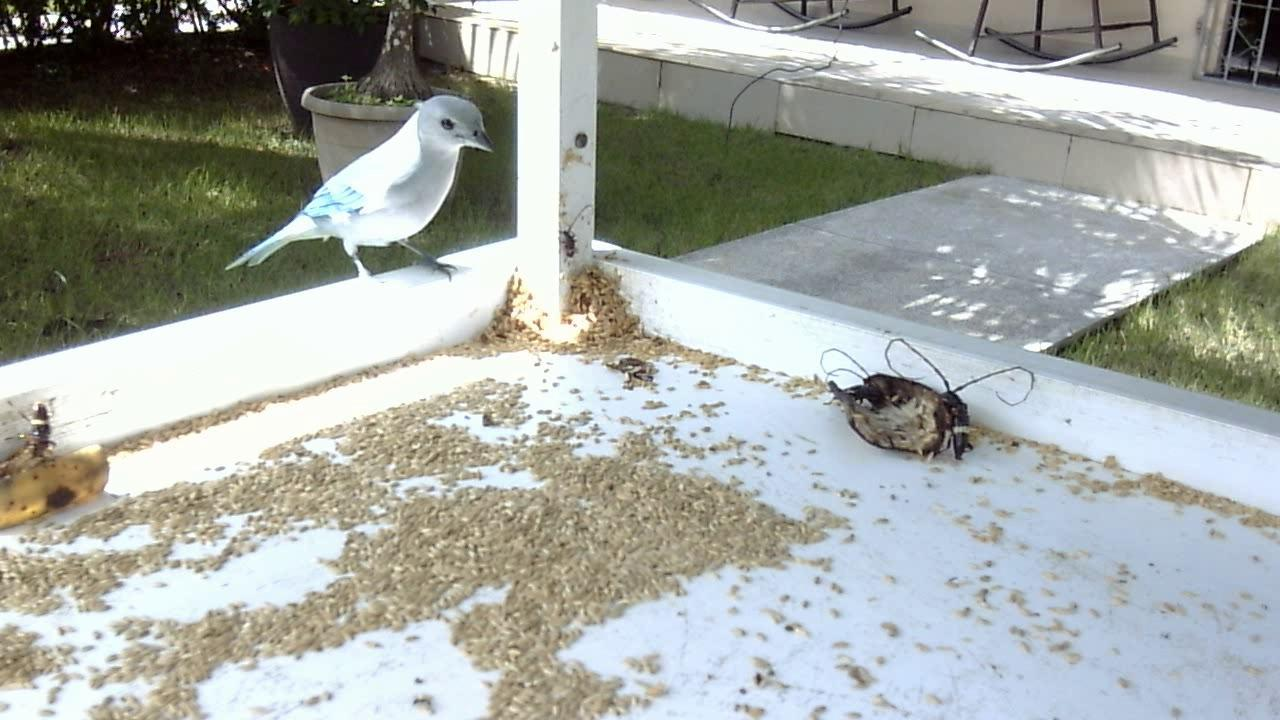sanhaco_da_amazonia: (215, 89, 496, 294)
